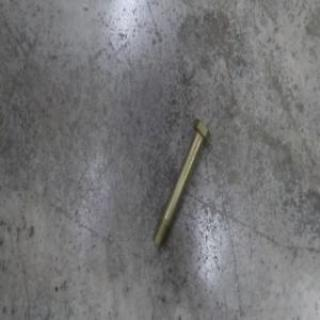Bolttrack_idkeyframe: (151, 116, 209, 250)
